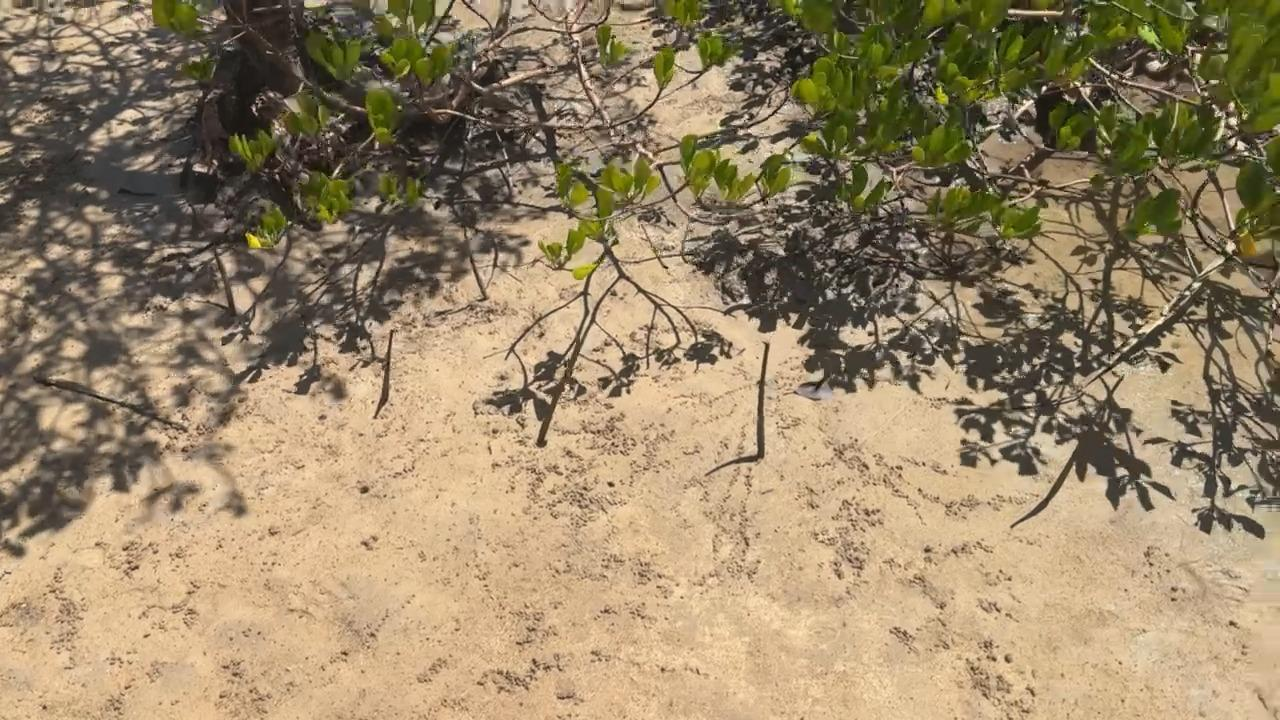Tree: (1047, 374, 1126, 500), (536, 326, 582, 446), (462, 218, 489, 301), (207, 241, 236, 318), (756, 341, 769, 459), (381, 329, 396, 402)
